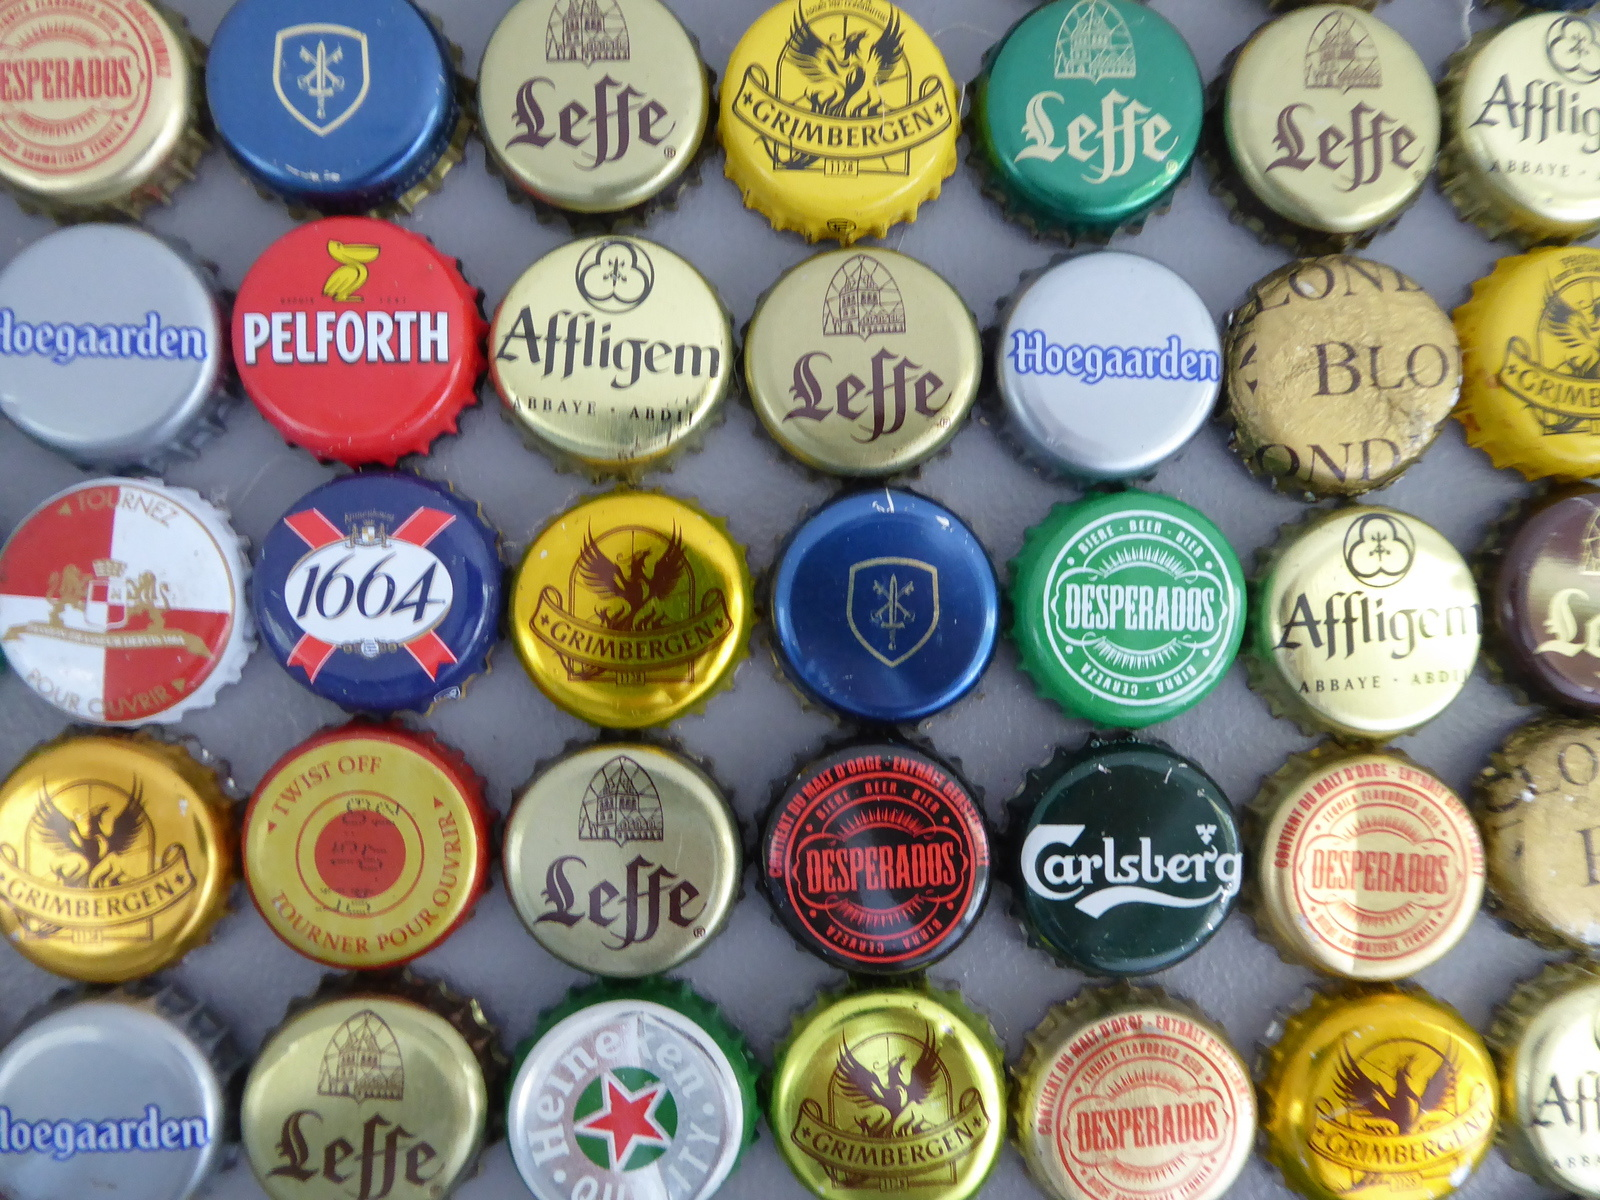heineken: (503, 995, 753, 1200)
leffe: (493, 732, 742, 984), (741, 245, 980, 484), (467, 1, 714, 224)
